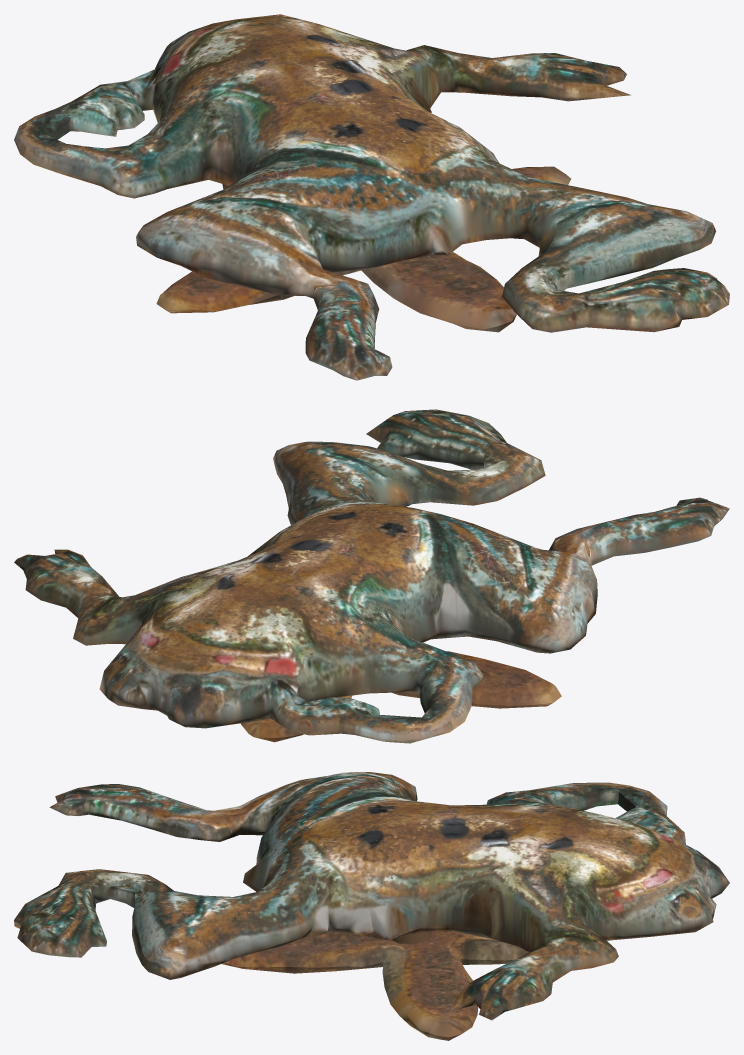
Rendered from Frosch_49790_v3.glb.
3 views of the same model, one above another, from view 1: azimuth 30°, elevation 25°; view 2: azimuth 150°, elevation 25°; view 3: azimuth 270°, elevation 25° (orthographic). The views are drawn at different scales.
Visible parts, largest first — view 1: Frosch_49790_v3_optimized; view 2: Frosch_49790_v3_optimized; view 3: Frosch_49790_v3_optimized.
Part boxes in pixels (x1,y1,x2,y2): Frosch_49790_v3_optimized: [14, 14, 729, 380]; Frosch_49790_v3_optimized: [14, 409, 729, 743]; Frosch_49790_v3_optimized: [14, 772, 729, 1040].
Size of the model in its own units: 0.0347 by 0.00902 by 0.0451.
Materials: 1 (1 with a texture image).
